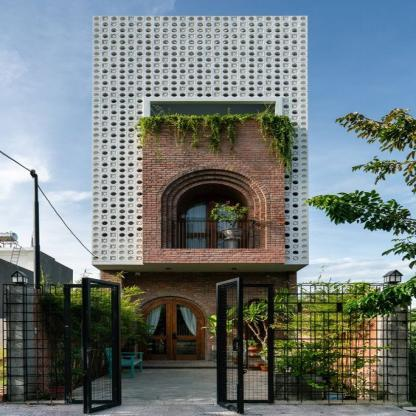Balcony: (143, 119, 285, 150), (172, 221, 254, 248)
Building Outline: (91, 16, 309, 366)
Door: (137, 298, 205, 360), (178, 198, 245, 250)
Facade: (91, 16, 310, 367)
Floor Slab: (93, 151, 309, 162), (92, 255, 309, 264)
Window: (161, 169, 266, 249), (151, 101, 275, 141), (246, 298, 269, 339)
